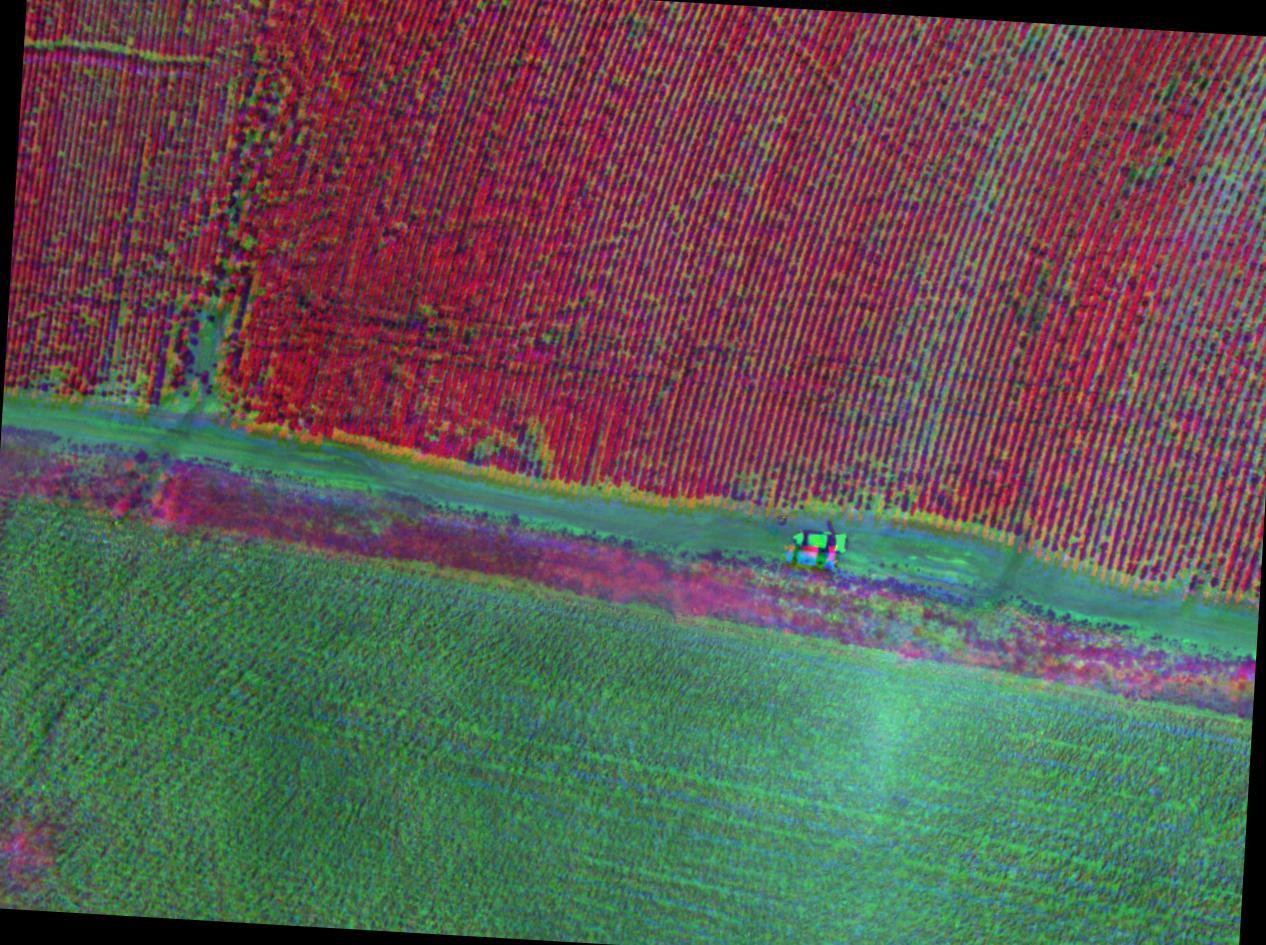dc: (1208, 104, 1266, 195), (998, 20, 1064, 76), (178, 350, 225, 412), (175, 296, 223, 345), (959, 157, 1004, 207), (94, 370, 138, 401)
